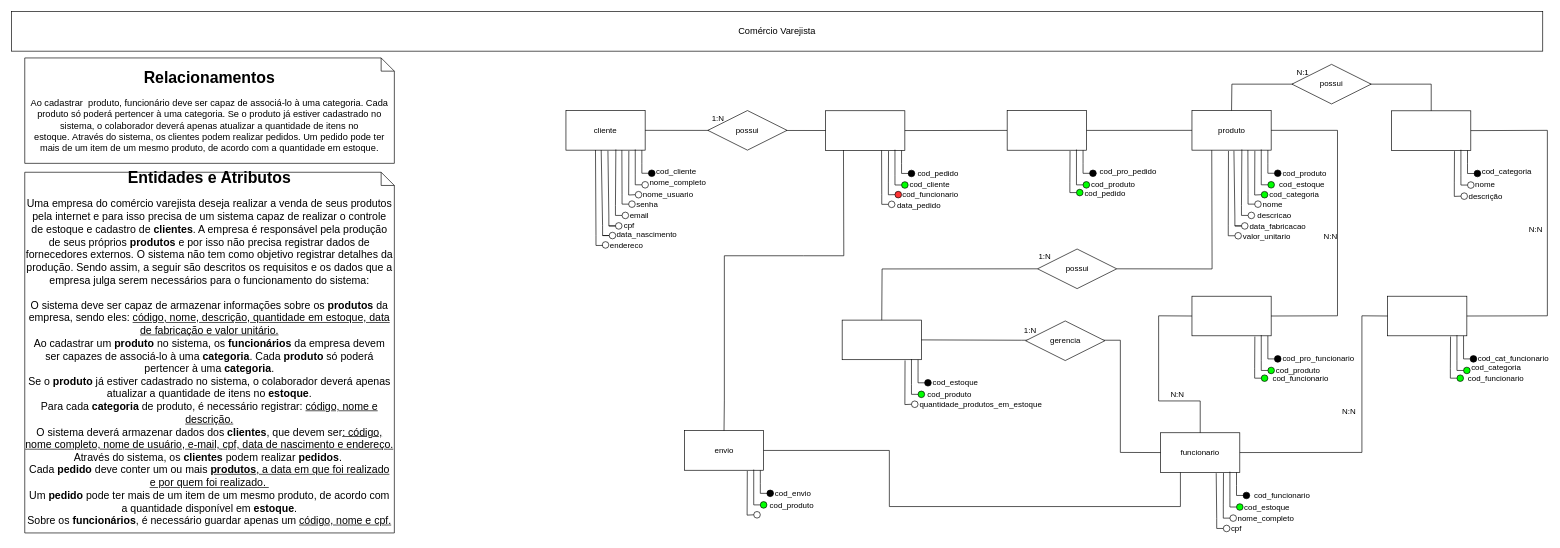
Image size: 1560x548. Some labels were removed from this diagram. Each missing label, with the centre of its shape:
"categoria" belongs at point 1431,130.
"categoria_funcionario" belongs at point 1427,316.
"estoque" belongs at point 881,339.
"pedido" belongs at point 865,130.
"produto_funcionario" belongs at point 1231,316.
"produto_pedido" belongs at point 1046,130.
